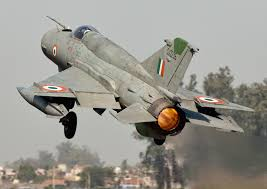fighter: (17, 13, 256, 145)
